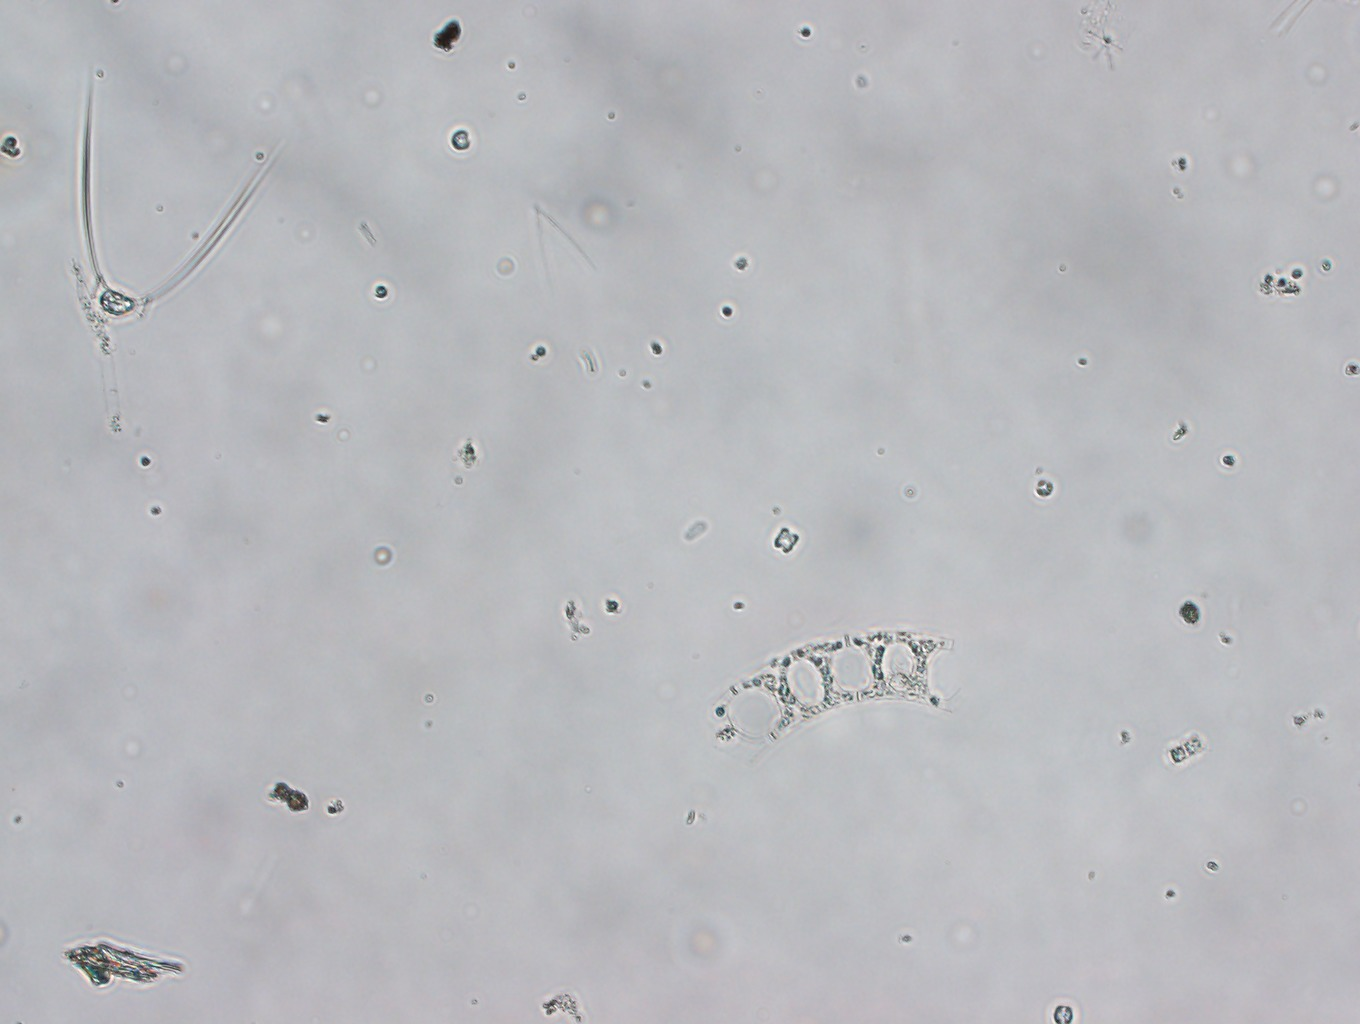chaetoceros: (65, 59, 291, 336)
eucampia: (698, 617, 962, 772)
